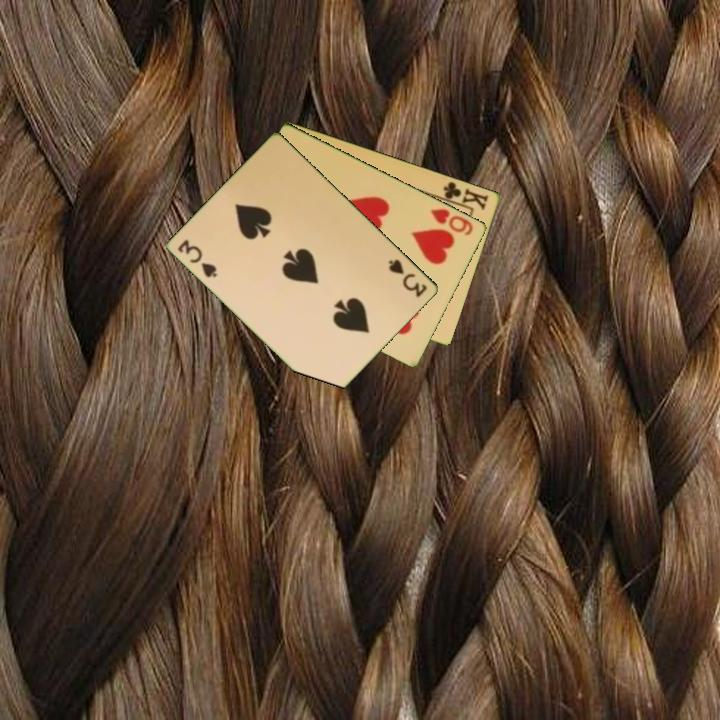3s: (385, 256, 431, 300), (174, 236, 220, 280)
6h: (427, 205, 476, 238)
Kc: (435, 178, 492, 213)
